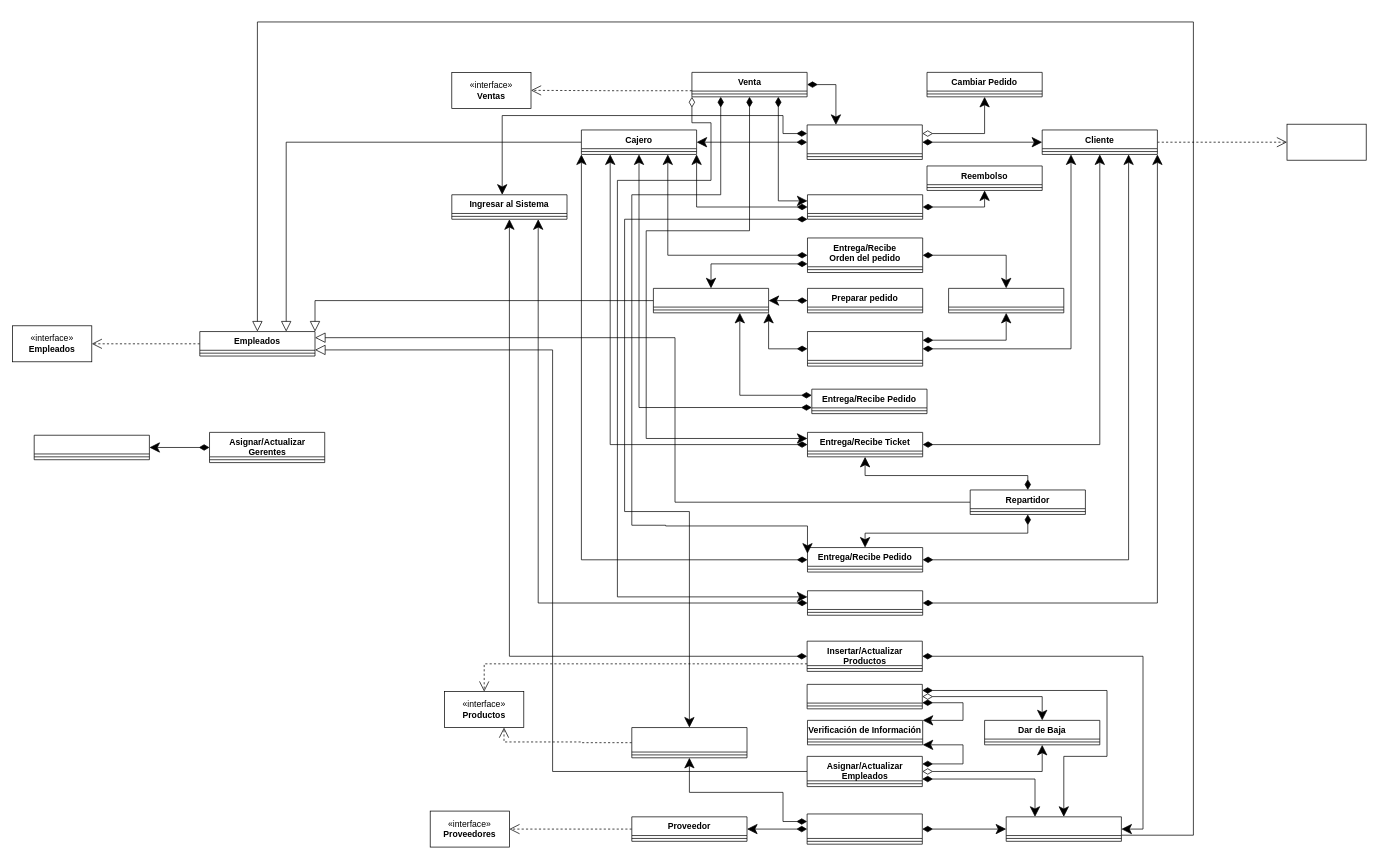
Some shapes in this 1379 by 860 pixel diagram are drawn without their labels. Here are the shapes that lost their labels. From the top down, the box of each, then its label:
(806, 124, 922, 159): Genera/Solicita Orden del pedido
(1286, 123, 1366, 160): «interface» Clientes
(807, 194, 923, 219): Recibe/Realiza Pago
(653, 288, 769, 313): Chef
(948, 288, 1064, 313): Confirmar Datos
(807, 331, 923, 366): Comunicación entre Chef y Cliente
(33, 435, 149, 460): Director General
(807, 590, 923, 615): Descargar Factura
(806, 684, 922, 709): Insertar/Actualizar Precios
(631, 727, 747, 758): Actualización de Inventario
(806, 813, 922, 844): Compra de Mercancía a Proveedor
(1005, 816, 1121, 841): Gerente
